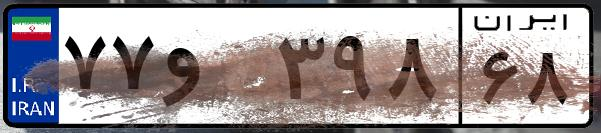3: (270, 28, 330, 110)
6: (475, 38, 525, 113)
7: (57, 26, 110, 100), (110, 28, 158, 98)
8: (385, 28, 445, 110), (525, 38, 570, 115)
9: (330, 28, 385, 110)
و: (158, 20, 270, 120)
